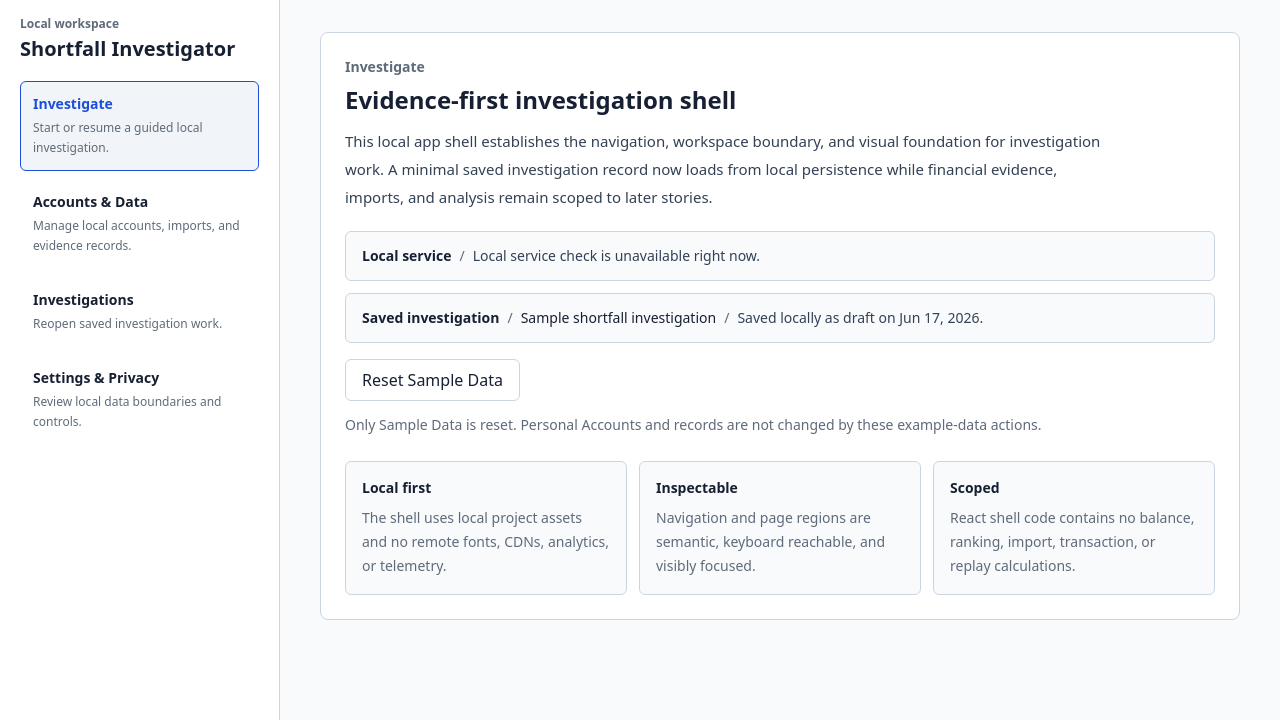
Test: Shortfall Investigator app shell › offers a Sample Data reset without exposing personal-data wording as affected
This screenshot has width=1280, height=720.
What coordinates should you click on to do the following:
click the button "Reset Sample Data"
I would click on:
 (432, 380)
Its box is left=345, top=359, right=520, bottom=401.
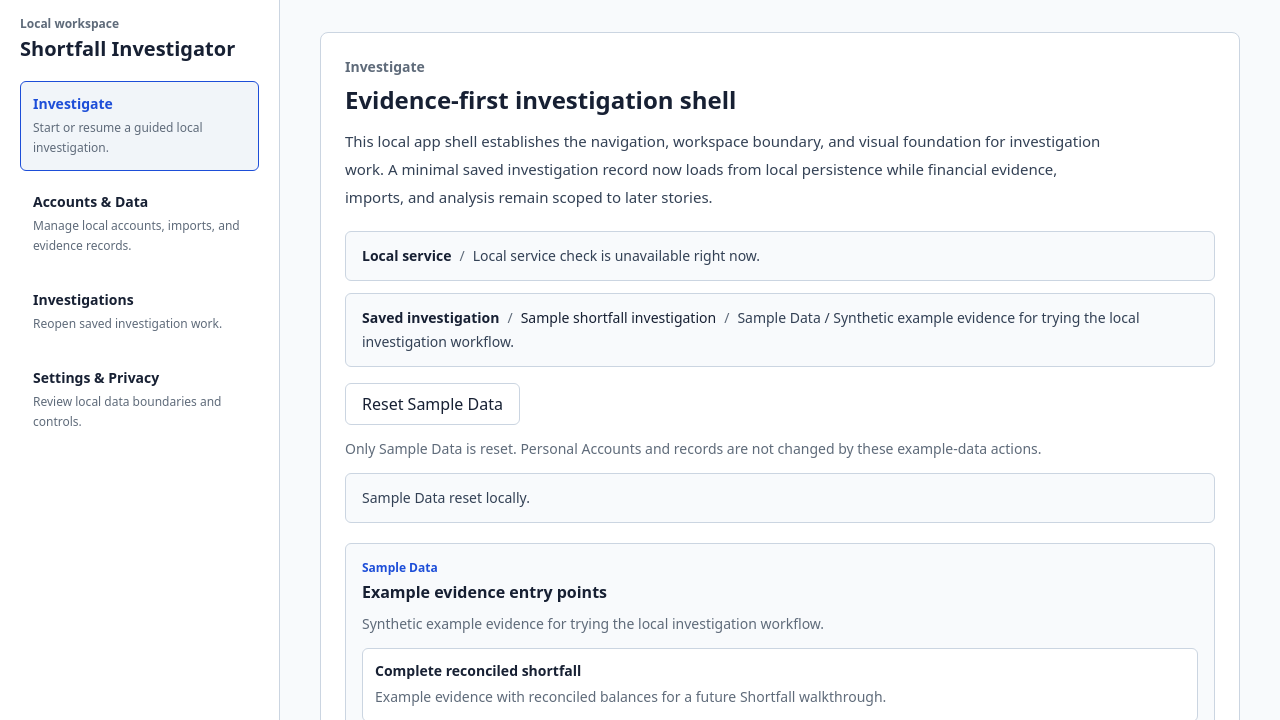
Expected: the text "Only Sample Data is reset" is shown, left=345, top=439, right=1042, bottom=458
Expected: the text "Sample Data reset locally." is shown, left=345, top=473, right=1215, bottom=523
